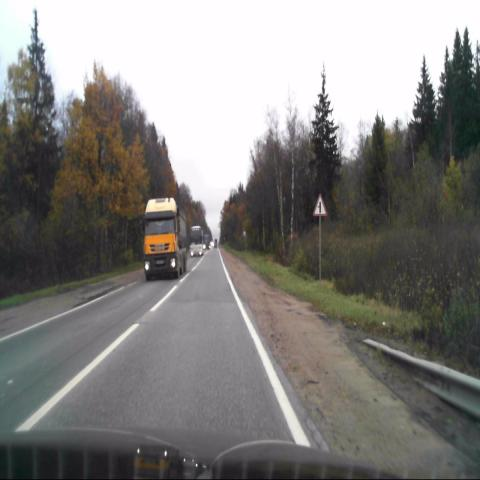2_3_3: (313, 193, 327, 216)
